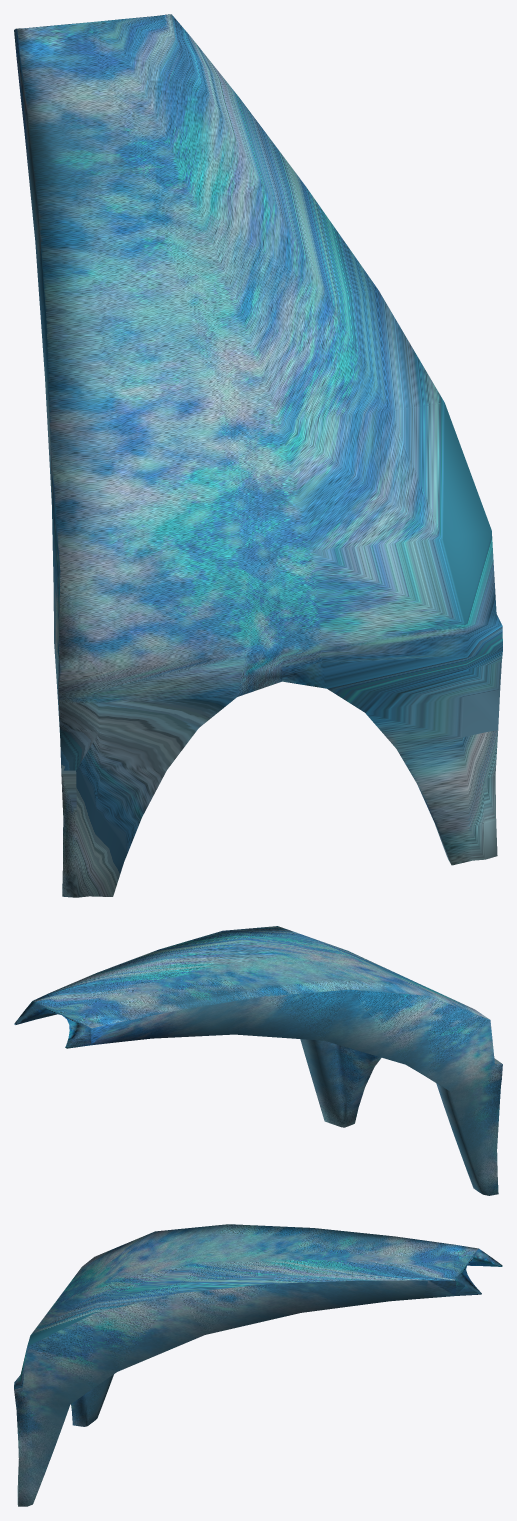
File: Final_dome_cake_slice_low.fbx
3 renders of one model, top to bottom at view 1: azimuth 30°, elevation 25°; view 2: azimuth 150°, elevation 25°; view 3: azimuth 270°, elevation 25°, orthographic. The views are drawn at different scales.
Visible parts, largest first — view 1: Cake_slice_low; view 2: Cake_slice_low; view 3: Cake_slice_low.
Part boxes in pixels (x1,y1,x2,y2): Cake_slice_low: (14, 14, 502, 897); Cake_slice_low: (14, 926, 502, 1195); Cake_slice_low: (14, 1224, 502, 1506).
Size of the model in its own units: 1.05 by 1.03 by 1.82.
